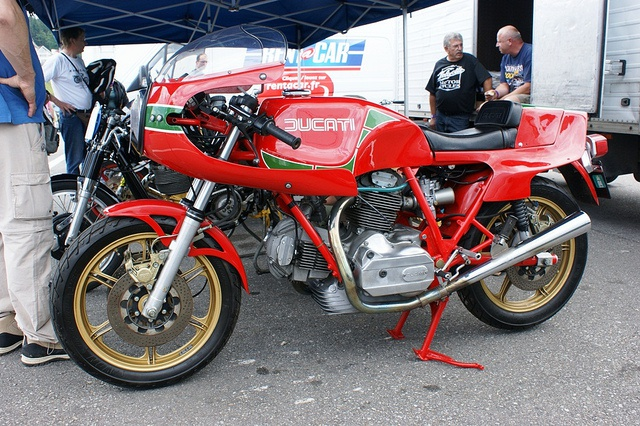non-vehicle: (48, 23, 611, 389), (50, 42, 284, 294)
